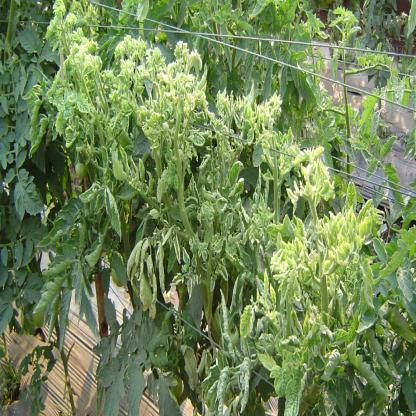tomato leaf yellow virus: (282, 366, 308, 415), (154, 155, 181, 200), (104, 188, 122, 239), (239, 302, 254, 336), (226, 162, 242, 190), (280, 245, 292, 282), (357, 210, 370, 243), (62, 128, 83, 148), (179, 246, 190, 282), (341, 214, 350, 258), (213, 196, 229, 215), (299, 240, 309, 267), (213, 237, 225, 257), (219, 266, 228, 283), (211, 267, 215, 303), (202, 247, 208, 265), (193, 254, 198, 274), (323, 225, 329, 240)
